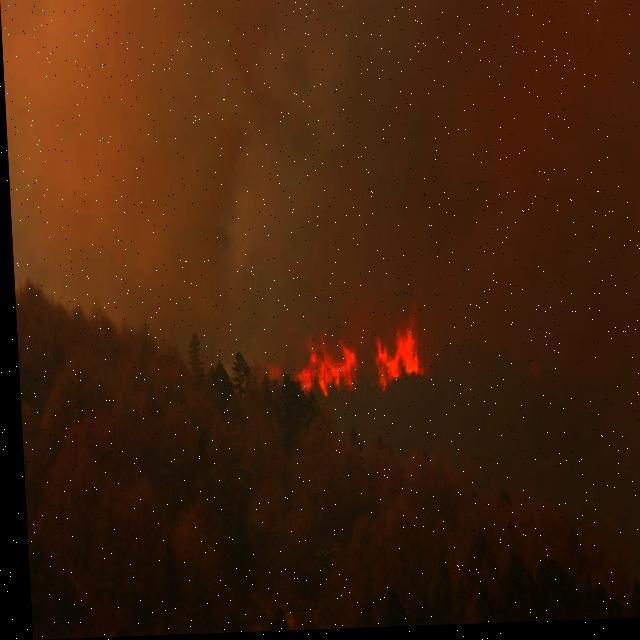Fire: (266, 326, 354, 406), (368, 310, 422, 394)
